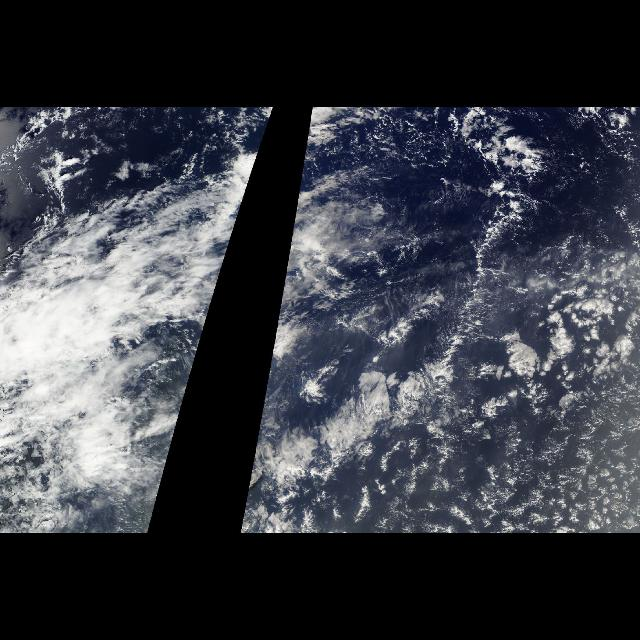Flower: (347, 365, 639, 525)
Gravel: (378, 236, 636, 526)
Sugar: (422, 390, 636, 532)
